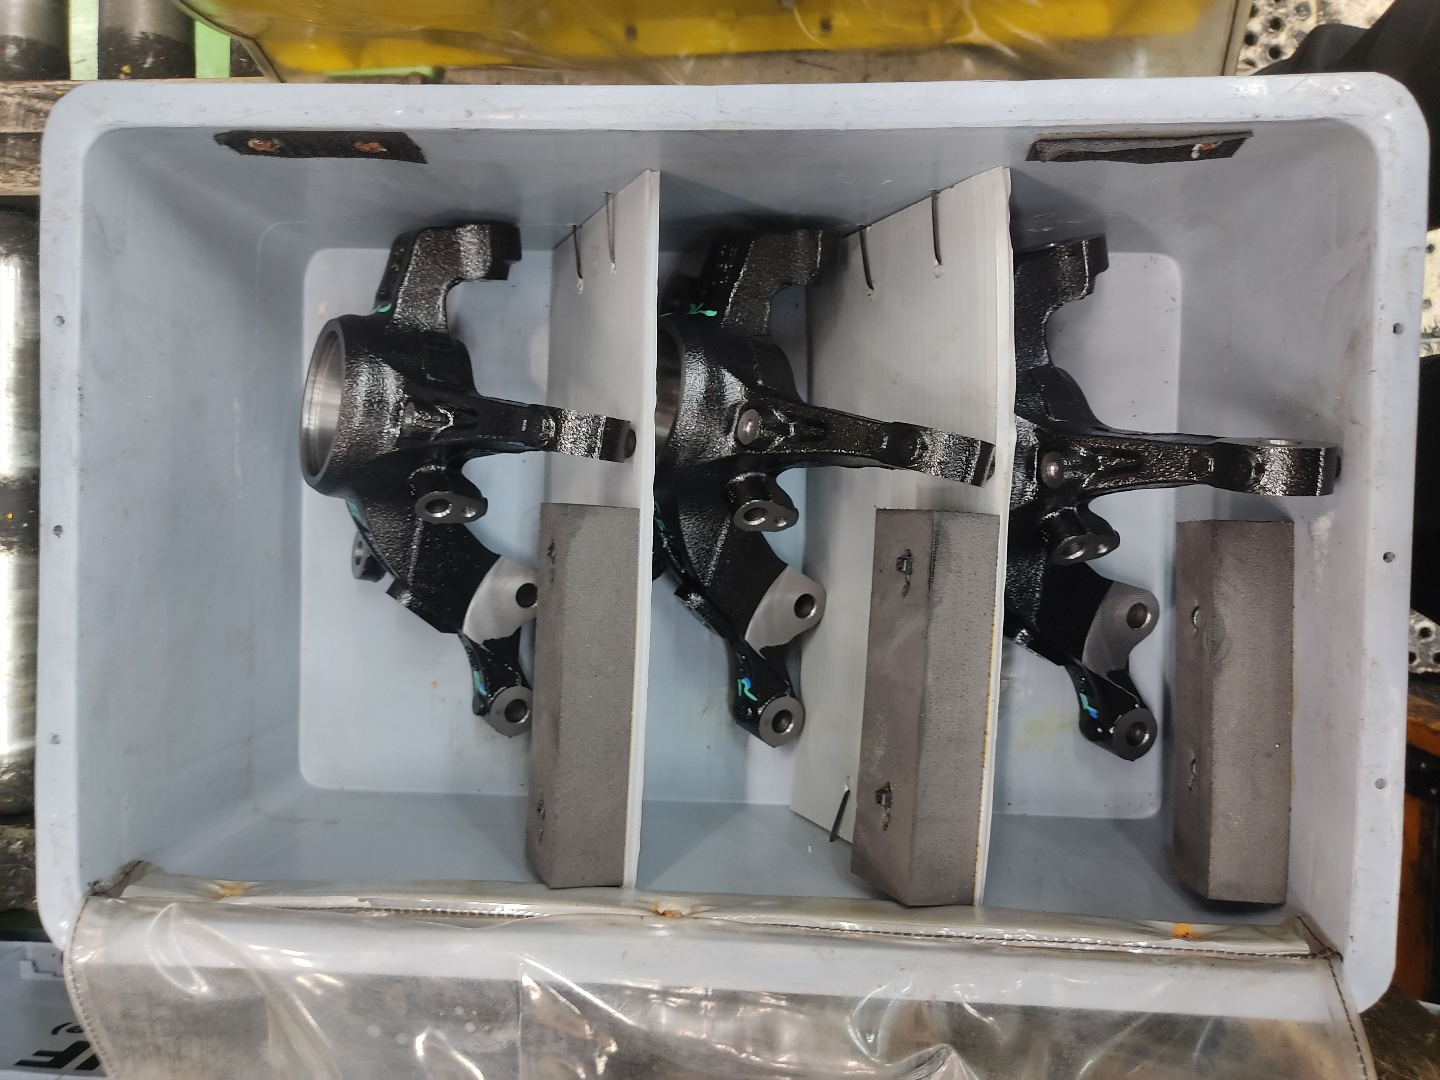abs-rh: (650, 206, 1001, 768), (1003, 214, 1349, 781), (293, 214, 644, 742)
